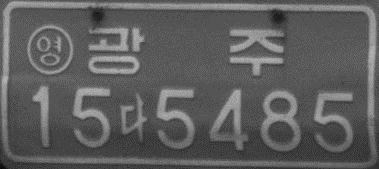1: (23, 84, 63, 148)
4: (207, 89, 249, 149)
5: (311, 91, 354, 154), (155, 87, 195, 150), (70, 87, 110, 149)
8: (258, 89, 301, 153)
광주_D: (87, 26, 285, 76)
다: (117, 92, 148, 143)
영: (26, 24, 73, 75)
